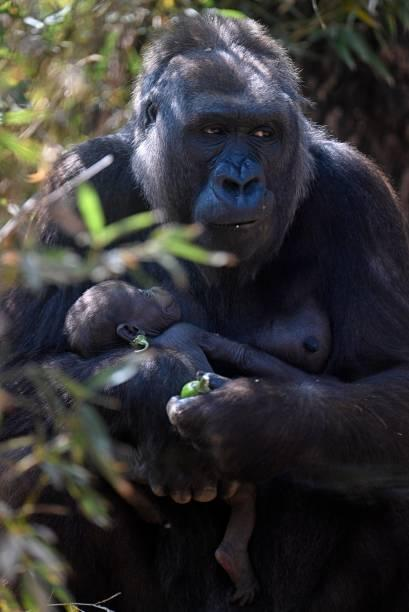gorille_Autres: (7, 22, 409, 548)
